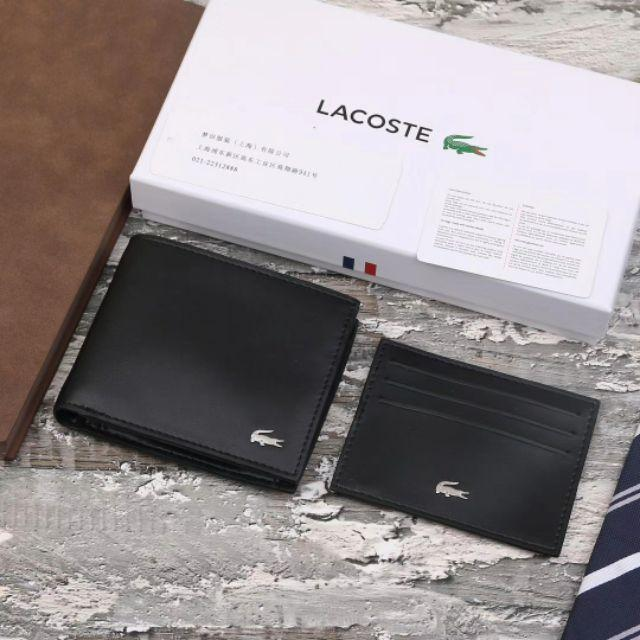wallet: (50, 225, 362, 500), (330, 330, 602, 560)
